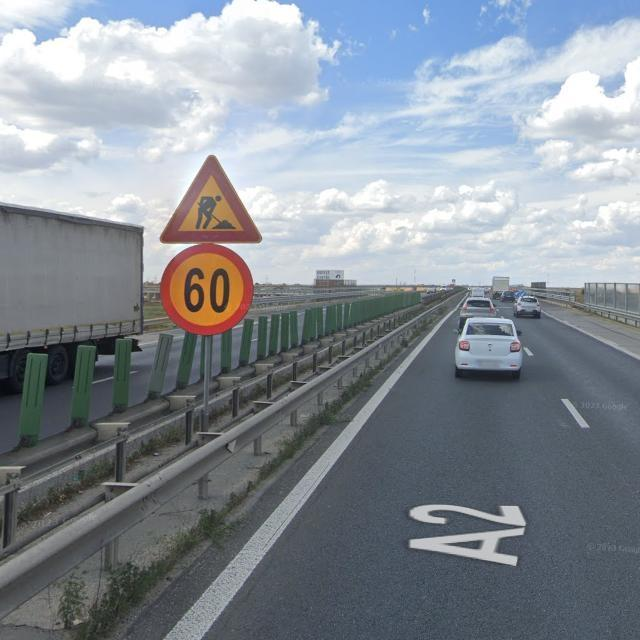forb_speed_over_60: (161, 243, 254, 338)
